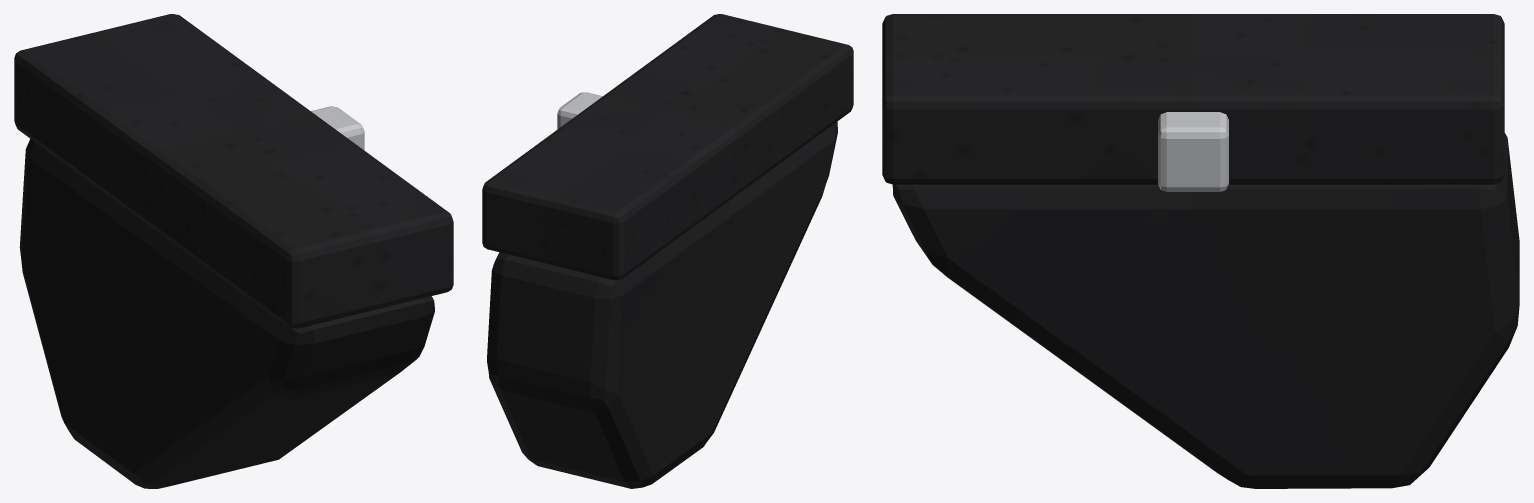
File: grip_angled.glb
The picture shows the model from 3 angles, left to right: view 1: azimuth 30°, elevation 25°; view 2: azimuth 150°, elevation 25°; view 3: azimuth 270°, elevation 25°; orthographic projection. The views are drawn at different scales.
Parts seen in each view (by area): view 1: g_clamp, wedge, g_screw; view 2: wedge, g_clamp, g_screw; view 3: wedge, g_clamp, g_screw.
Boxes of the visible parts, x1,y1,x2,y2 form: g_clamp: [14, 14, 453, 328]; wedge: [19, 139, 434, 488]; g_screw: [311, 106, 364, 150]; wedge: [487, 121, 837, 488]; g_clamp: [482, 14, 853, 280]; g_screw: [557, 92, 602, 129]; wedge: [892, 133, 1519, 488]; g_clamp: [882, 14, 1504, 184]; g_screw: [1158, 112, 1228, 191].
Size of the model in its own units: 0.029 by 0.05 by 0.0717.
3 materials, 2 textured.
